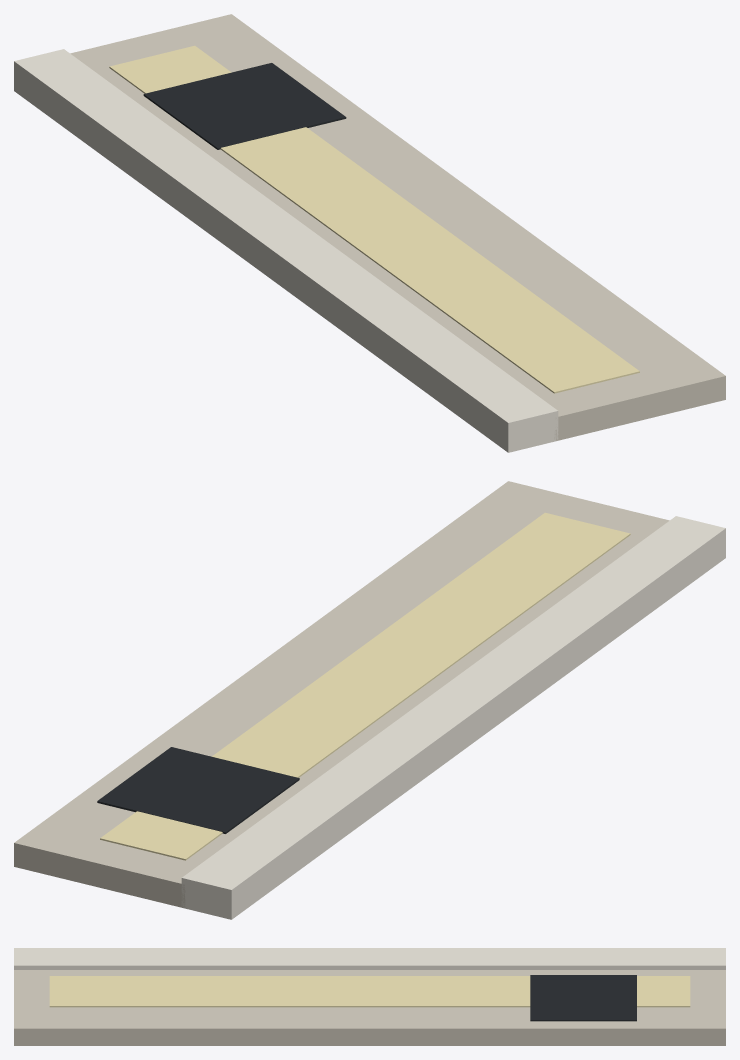
Rendered from stop-kerb.obj.
The picture shows the model from 3 angles, top to bottom: view 1: azimuth 30°, elevation 25°; view 2: azimuth 150°, elevation 25°; view 3: azimuth 270°, elevation 25°; orthographic projection. The views are drawn at different scales.
Parts seen in each view (by area): view 1: part2, part1, part3.nocast, part4.nocast; view 2: part2, part1, part3.nocast, part4.nocast; view 3: part2, part3.nocast, part1, part4.nocast.
Part boxes in pixels (x1,y1,x2,y2): part2: (70,14,725,440); part1: (14,49,558,452); part3.nocast: (109,45,639,393); part4.nocast: (143,63,346,149); part2: (14,481,669,908); part1: (181,516,725,919); part3.nocast: (100,512,630,860); part4.nocast: (97,747,299,833); part2: (14,970,725,1045); part3.nocast: (49,976,690,1007); part1: (14,948,725,969); part4.nocast: (530,975,636,1021).
Bounding box in the file's own units: 1.53 × 0.2 × 6.
